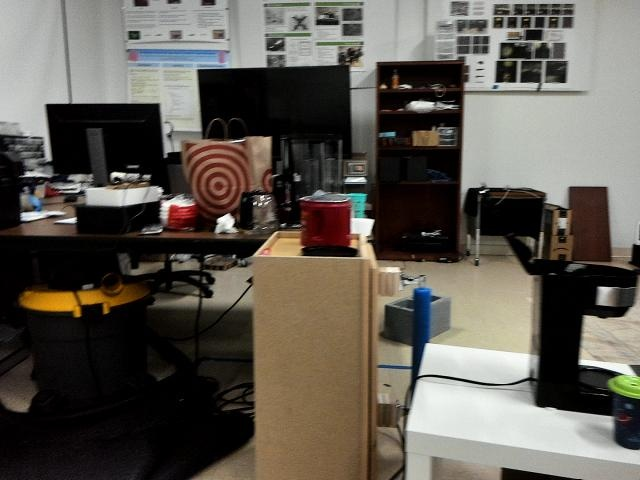noodle_handle: (405, 278, 437, 347)
useless_cup: (605, 371, 640, 453), (345, 190, 368, 223)
